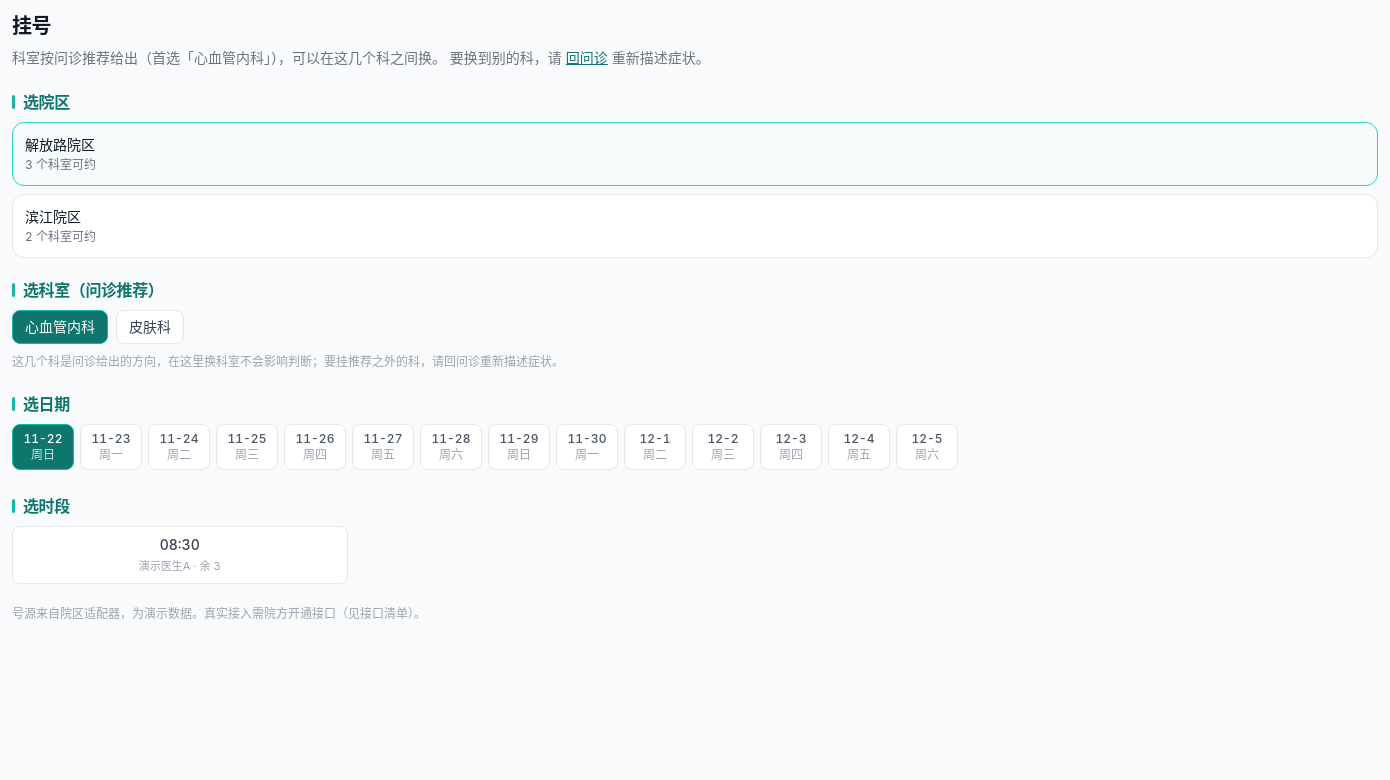
Scenario: 挂号页：带推荐科室进来 › 切换推荐科室后，院区列表跟着换成开了这个科的院区
Expected: the text "解放路院区" is shown, [25,136,95,153]
Expected: the text "滨江院区" is shown, [25,208,81,225]
// 切到皮肤科 → 只剩皮肤专科院区
What coordinates should you click on to do the following:
click the button "皮肤科"
I would click on:
 (150, 327)
Its box is [116,310,184,344].
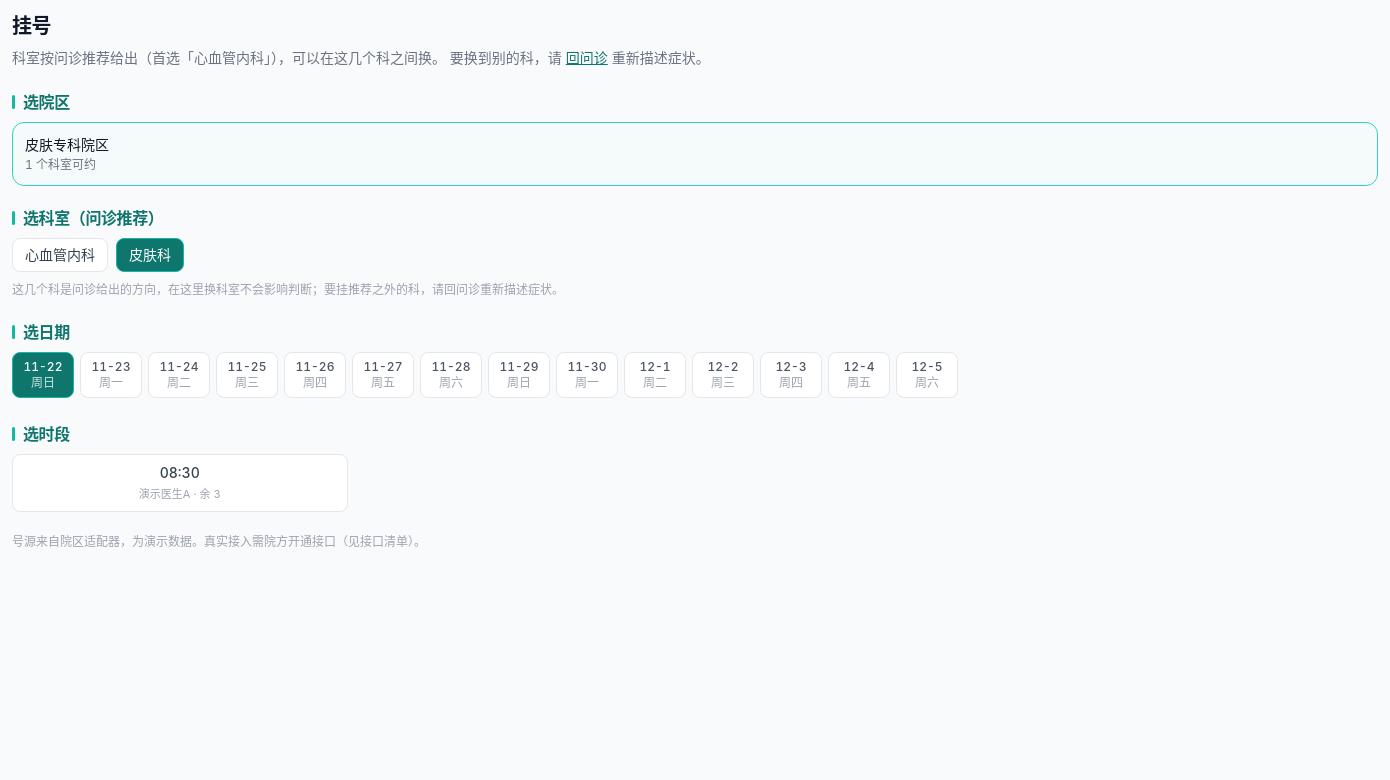
Expected: the text "皮肤专科院区" is shown, [25,136,109,153]
Expected: the button "滨江院区" is gone
Expected: the button "解放路院区" is gone
